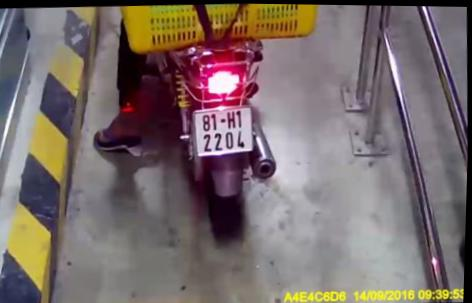LP: (191, 103, 257, 157)
